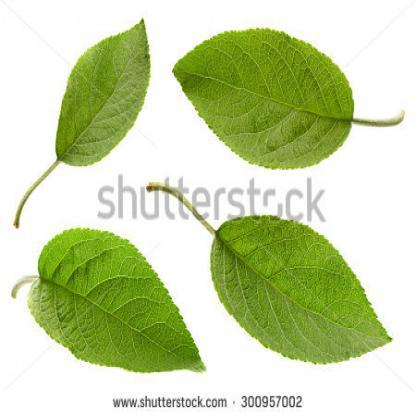Apple leaf: (170, 16, 386, 191), (200, 204, 405, 380), (24, 215, 219, 383), (52, 20, 164, 180)
